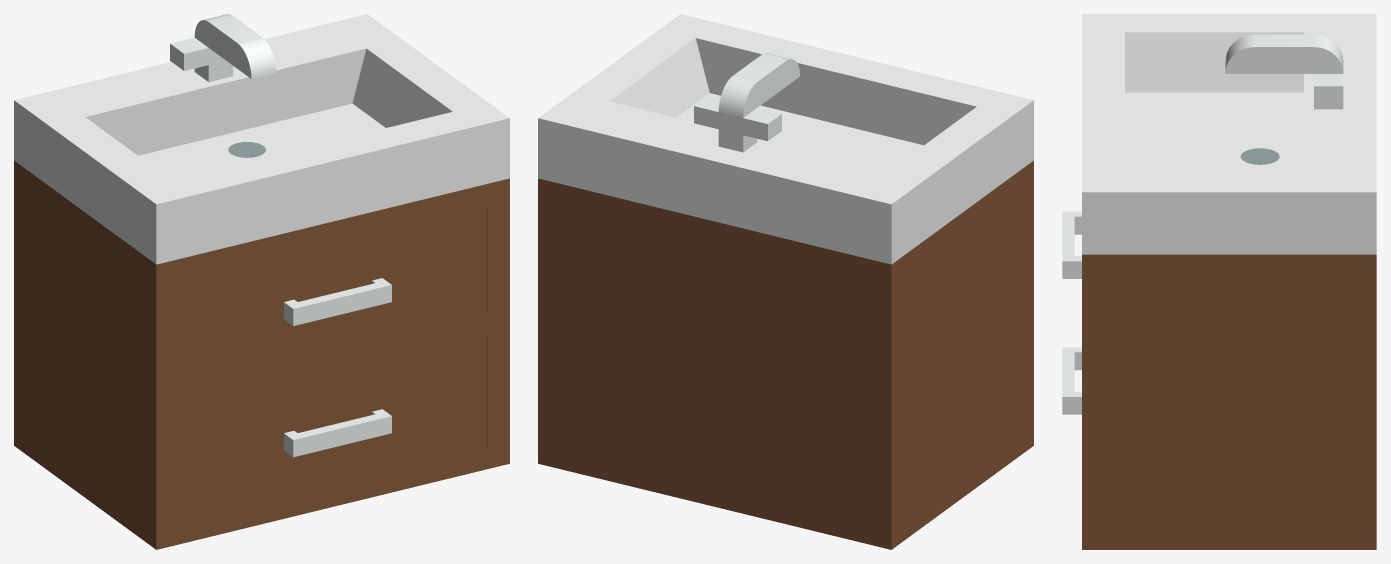
File: m_vanity.glb
3 views of the same model, side by side, from view 1: azimuth 30°, elevation 25°; view 2: azimuth 150°, elevation 25°; view 3: azimuth 270°, elevation 25° (orthographic). The views are drawn at different scales.
Visible parts, largest first — view 1: Mesh bathroomCabinetDrawer, drawerBottom, drawerTop; view 2: Mesh bathroomCabinetDrawer; view 3: Mesh bathroomCabinetDrawer, drawerBottom, drawerTop.
Boxes of the visible parts, bbox=[...] form: Mesh bathroomCabinetDrawer: bbox=[14, 14, 509, 549]; drawerBottom: bbox=[178, 338, 487, 521]; drawerTop: bbox=[178, 207, 487, 389]; Mesh bathroomCabinetDrawer: bbox=[538, 14, 1033, 549]; Mesh bathroomCabinetDrawer: bbox=[1082, 14, 1376, 549]; drawerBottom: bbox=[1062, 347, 1081, 414]; drawerTop: bbox=[1062, 211, 1081, 278].
Bounding box in the file's own units: 0.7748 × 0.85 × 0.5766.
